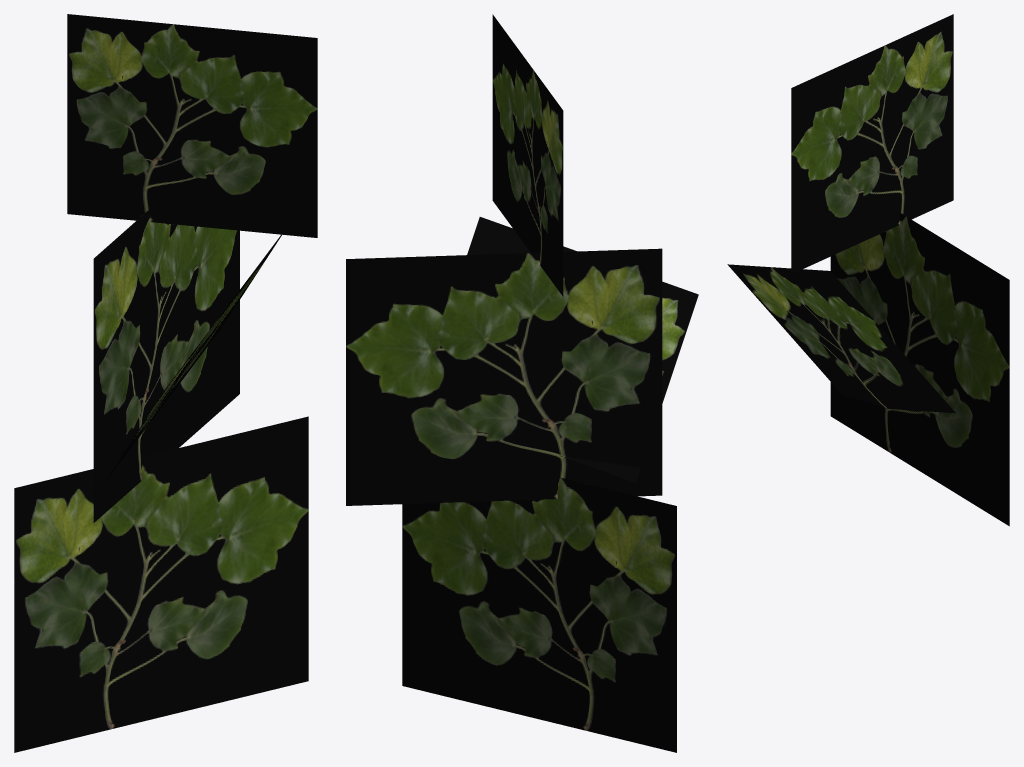
The model's file is ivydrop.fbx.
3 views of the same model, side by side, from view 1: azimuth 30°, elevation 25°; view 2: azimuth 150°, elevation 25°; view 3: azimuth 270°, elevation 25° (orthographic). The views are drawn at different scales.
Parts seen in each view (by area): view 1: ivy1js.002; view 2: ivy1js.002; view 3: ivy1js.002.
Boxes of the visible parts, <box> form: ivy1js.002: <box>14,14,317,752</box>; ivy1js.002: <box>346,14,698,752</box>; ivy1js.002: <box>727,14,1009,526</box>.
Bounding box in the file's own units: 116 × 262 × 104.
1 material, 1 textured.
